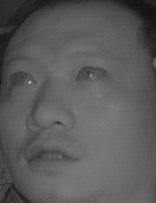eye: (73, 61, 108, 86), (8, 67, 40, 91)
mouth: (21, 136, 83, 174)
